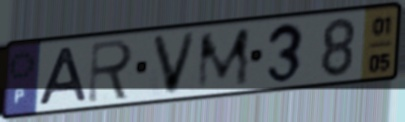3: (264, 19, 309, 87)
8: (319, 16, 357, 80)
A: (35, 45, 90, 108)
M: (194, 25, 253, 94)
R: (85, 37, 137, 106)
V: (149, 29, 200, 98)
